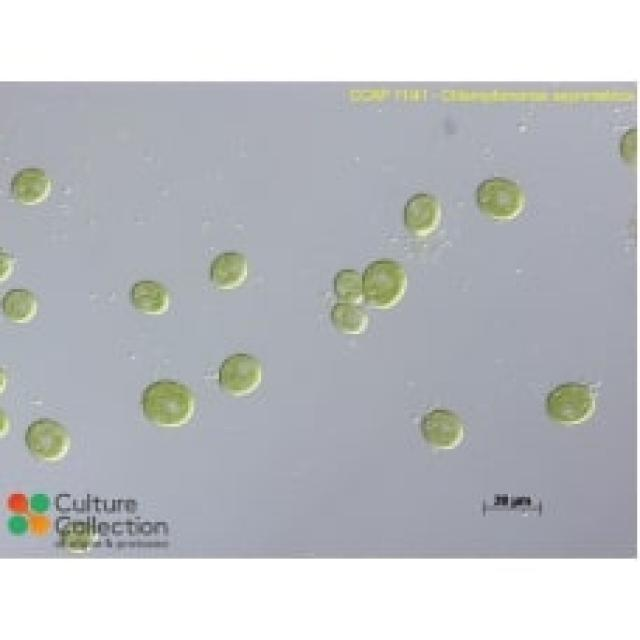Green Algae: (140, 379, 200, 432), (539, 376, 603, 424), (359, 252, 410, 312), (413, 401, 466, 452), (213, 348, 264, 399), (474, 177, 525, 222), (22, 418, 73, 461), (8, 165, 54, 208), (402, 193, 444, 236), (129, 278, 171, 317), (210, 250, 250, 289), (331, 267, 371, 306), (3, 289, 42, 326), (331, 303, 371, 334)
